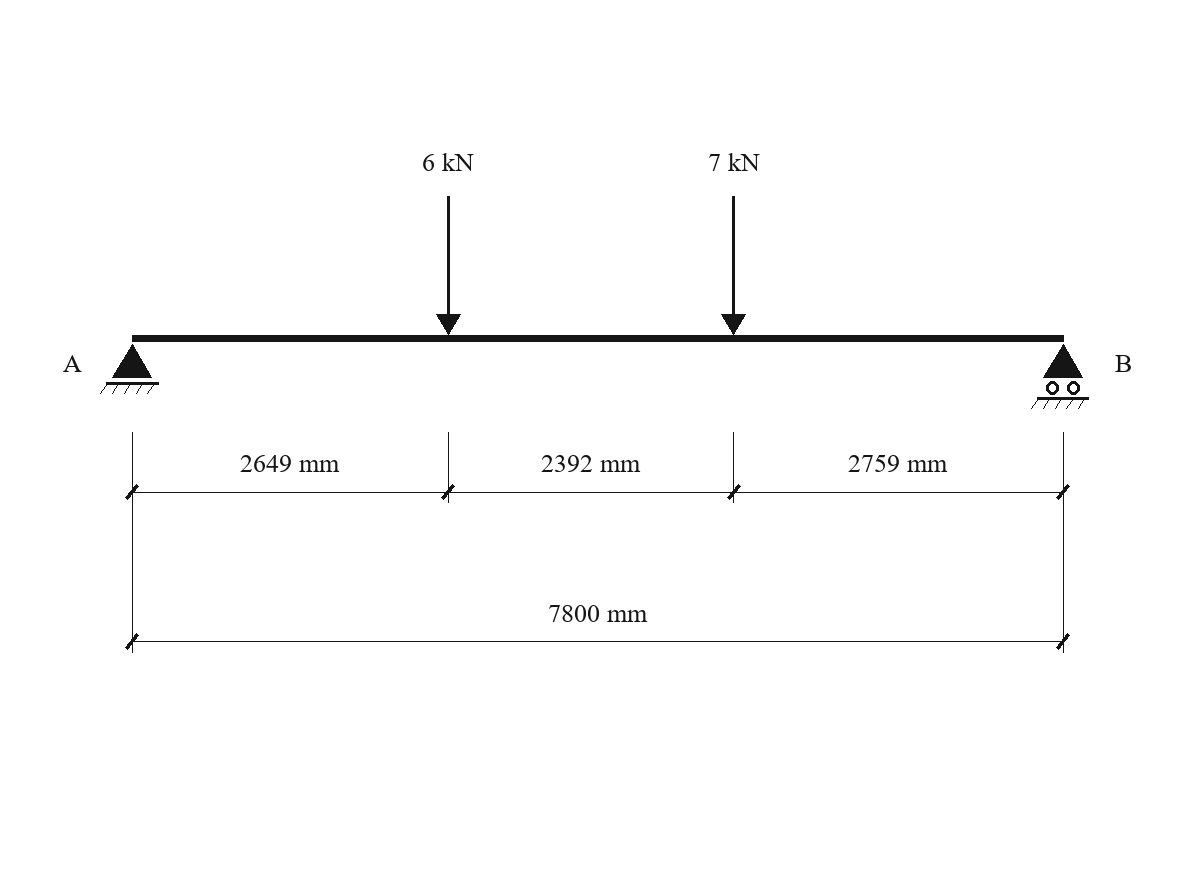pin_support: (100, 344, 159, 394)
point_load: (436, 196, 461, 335), (721, 196, 746, 335)
roller_support: (1031, 344, 1089, 409)
